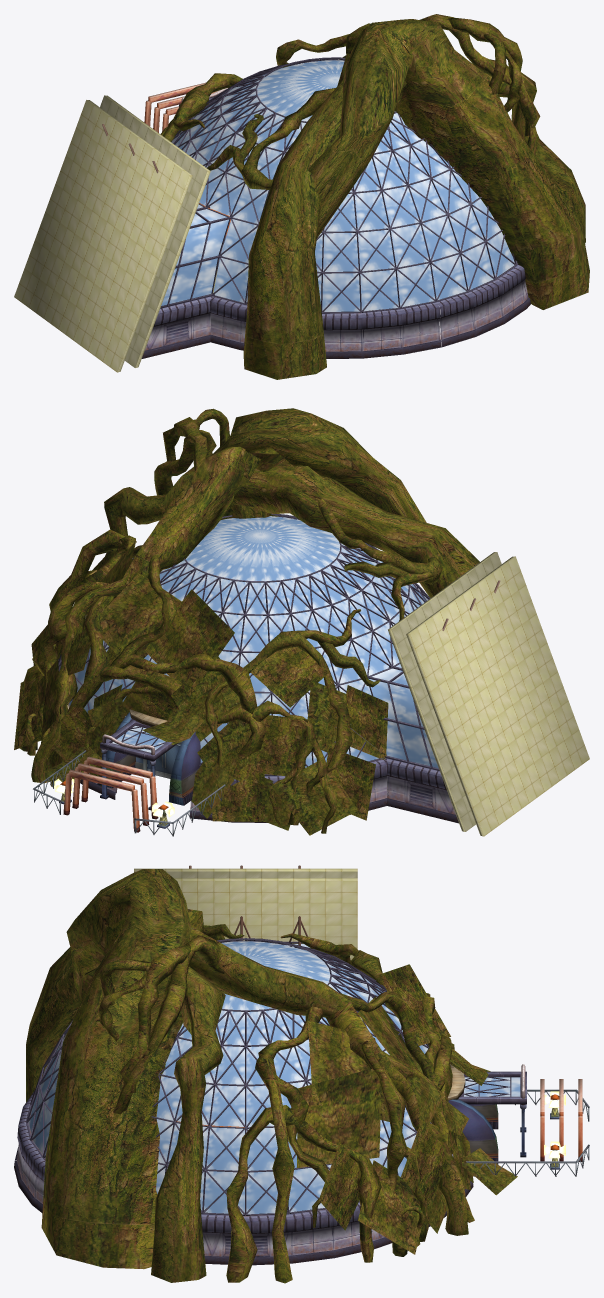
The model's file is s_SEglass01.glb.
3 renders of one model, top to bottom at view 1: azimuth 30°, elevation 25°; view 2: azimuth 150°, elevation 25°; view 3: azimuth 270°, elevation 25°, orthographic. The views are drawn at different scales.
Parts seen in each view (by area): view 1: s_SEglass01; view 2: s_SEglass01; view 3: s_SEglass01.
Part boxes in pixels (x1,y1,x2,y2): s_SEglass01: [14, 14, 589, 379]; s_SEglass01: [14, 408, 589, 836]; s_SEglass01: [14, 865, 589, 1283].
Bounding box in the file's own units: 32.16 × 17.84 × 30.39.
Materials: 10 (10 with a texture image).
